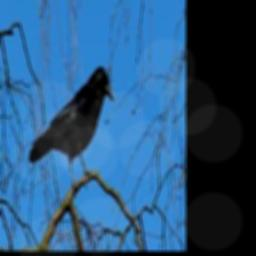Crow: (29, 65, 114, 190)
